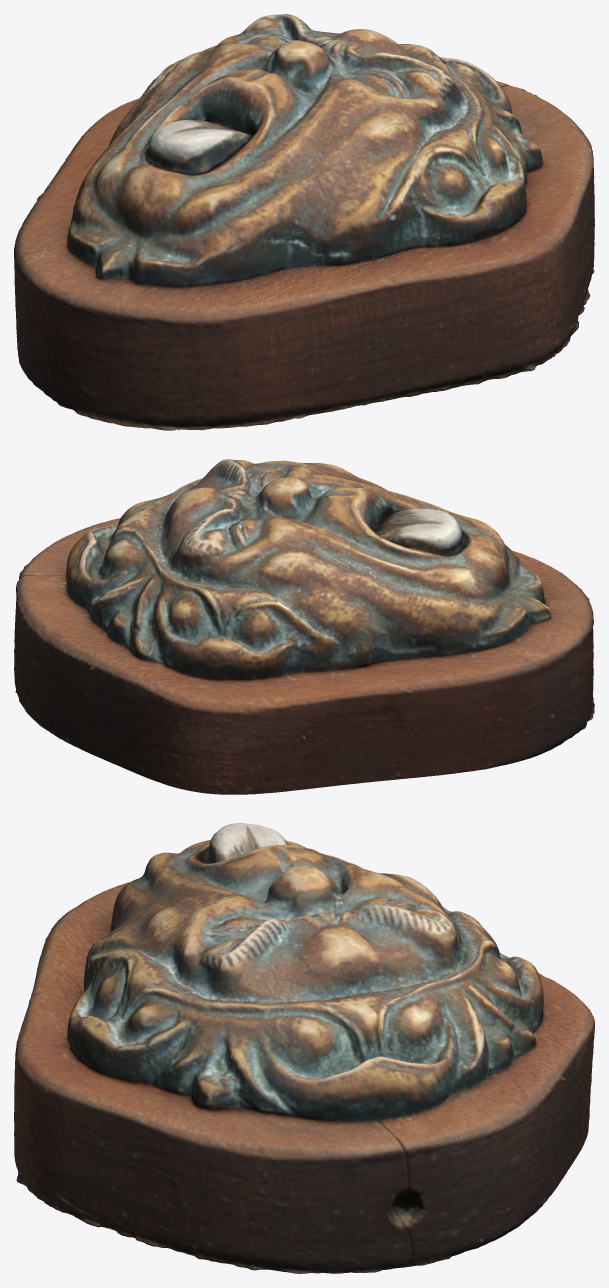
The model's file is Doorbell Face Mesh.fbx.
3 renders of one model, top to bottom at view 1: azimuth 30°, elevation 25°; view 2: azimuth 150°, elevation 25°; view 3: azimuth 270°, elevation 25°, orthographic. The views are drawn at different scales.
Parts seen in each view (by area): view 1: 3DModel; view 2: 3DModel; view 3: 3DModel.
Boxes of the visible parts, x1,y1,x2,y2 form: 3DModel: (14,14,594,430); 3DModel: (14,459,594,794); 3DModel: (14,823,594,1273).
Bounding box in the file's own units: 5.17 × 2.18 × 4.35.
1 material, 1 textured.
